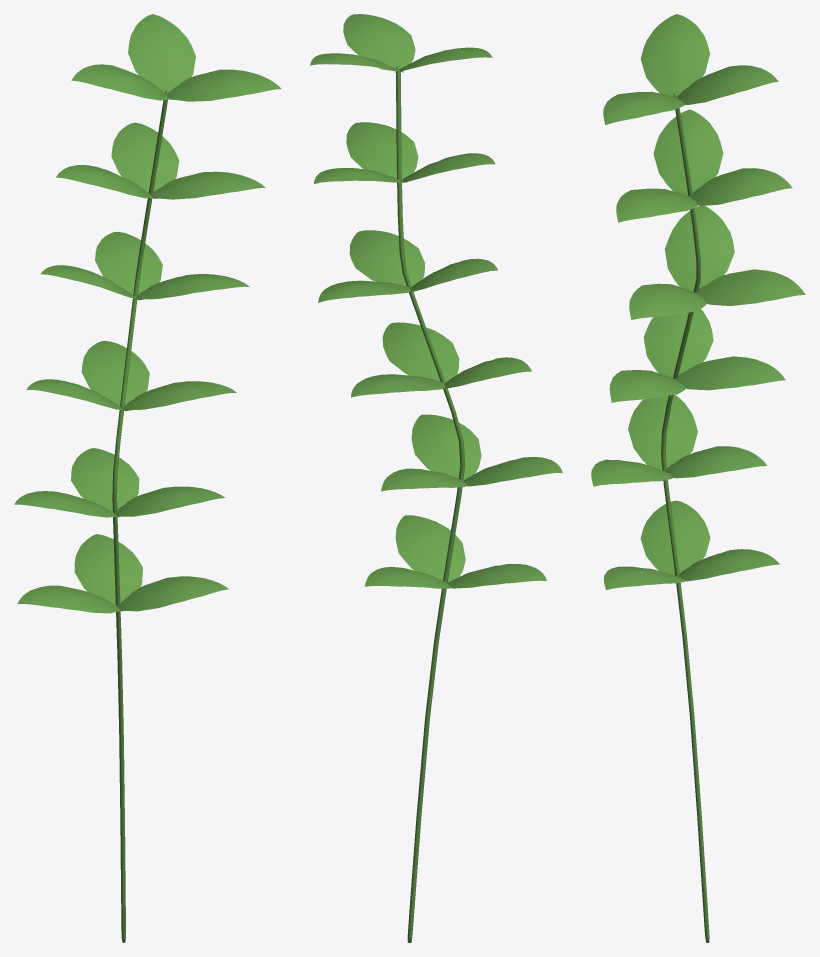
The model's file is mint_variant3.fbx.
3 views of the same model, side by side, from view 1: azimuth 30°, elevation 25°; view 2: azimuth 150°, elevation 25°; view 3: azimuth 270°, elevation 25° (orthographic).
Visible parts, largest first — view 1: Plane.004, Plane.003, Plane.005, Curve; view 2: Plane.003, Plane.005, Plane.004, Curve; view 3: Plane.005, Plane.004, Plane.003, Curve.
Boxes of the visible parts, <box> form: Plane.004: <box>71,14,195,604</box>; Plane.003: <box>114,69,281,611</box>; Plane.005: <box>14,64,169,613</box>; Curve: <box>112,90,168,942</box>; Plane.003: <box>343,14,481,582</box>; Plane.005: <box>395,47,562,588</box>; Plane.004: <box>310,53,466,588</box>; Curve: <box>396,66,465,942</box>; Plane.005: <box>628,14,734,575</box>; Plane.004: <box>665,65,805,581</box>; Plane.003: <box>591,91,706,589</box>; Curve: <box>661,93,709,942</box>.
Bounding box in the file's own units: 23.86 × 85.1 × 18.45.
